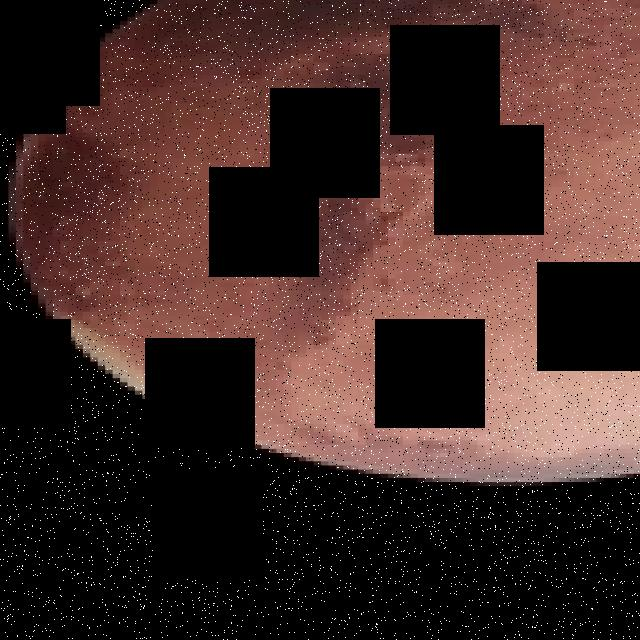Mars: (8, 0, 640, 482)
